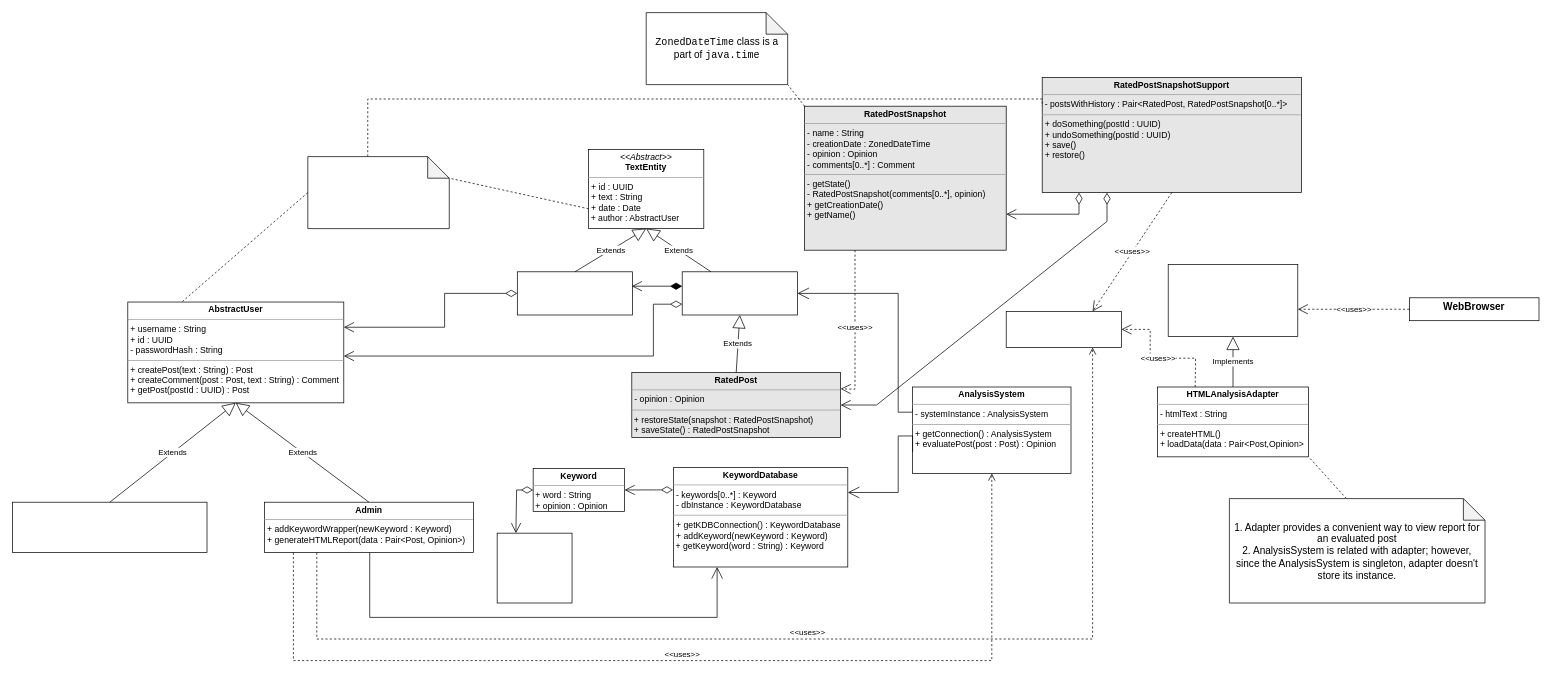
Image size: 1552x680. Some labels were removed from this diagram. Here are the shapes that lost their labels. From the top down, the centre of each, then its label:
At point (378, 192): "UUID class is a part of java.util.UUID".
At point (575, 293): "Comment + likes : Integer".
At point (739, 293): "Post + comments[0..*] : Comment".
At point (1232, 300): "<< Interface >> HTMLSupport + createHTML() + loadData(data : T)".
At point (1063, 329): "<< DataType >> Pair<L,R>".
At point (109, 527): "User + status : String + profilePictureLink : String".
At point (534, 567): "<<Enumeration>> Opinion Worst Bad Good".
